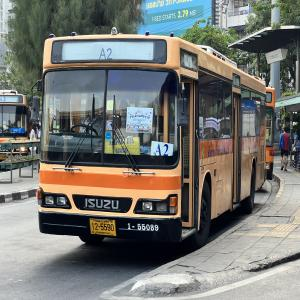BMTA-bus: (37, 32, 268, 246), (267, 86, 278, 181)
Bus Line Number: (92, 45, 118, 64)
Bus Side Number: (123, 219, 164, 236)
Destination Sign: (150, 140, 175, 157)
